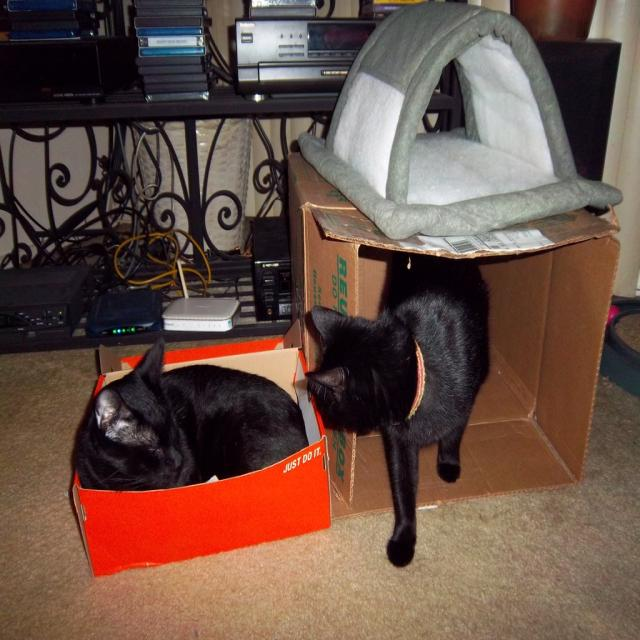Cat: (303, 250, 492, 568), (68, 338, 310, 489)
